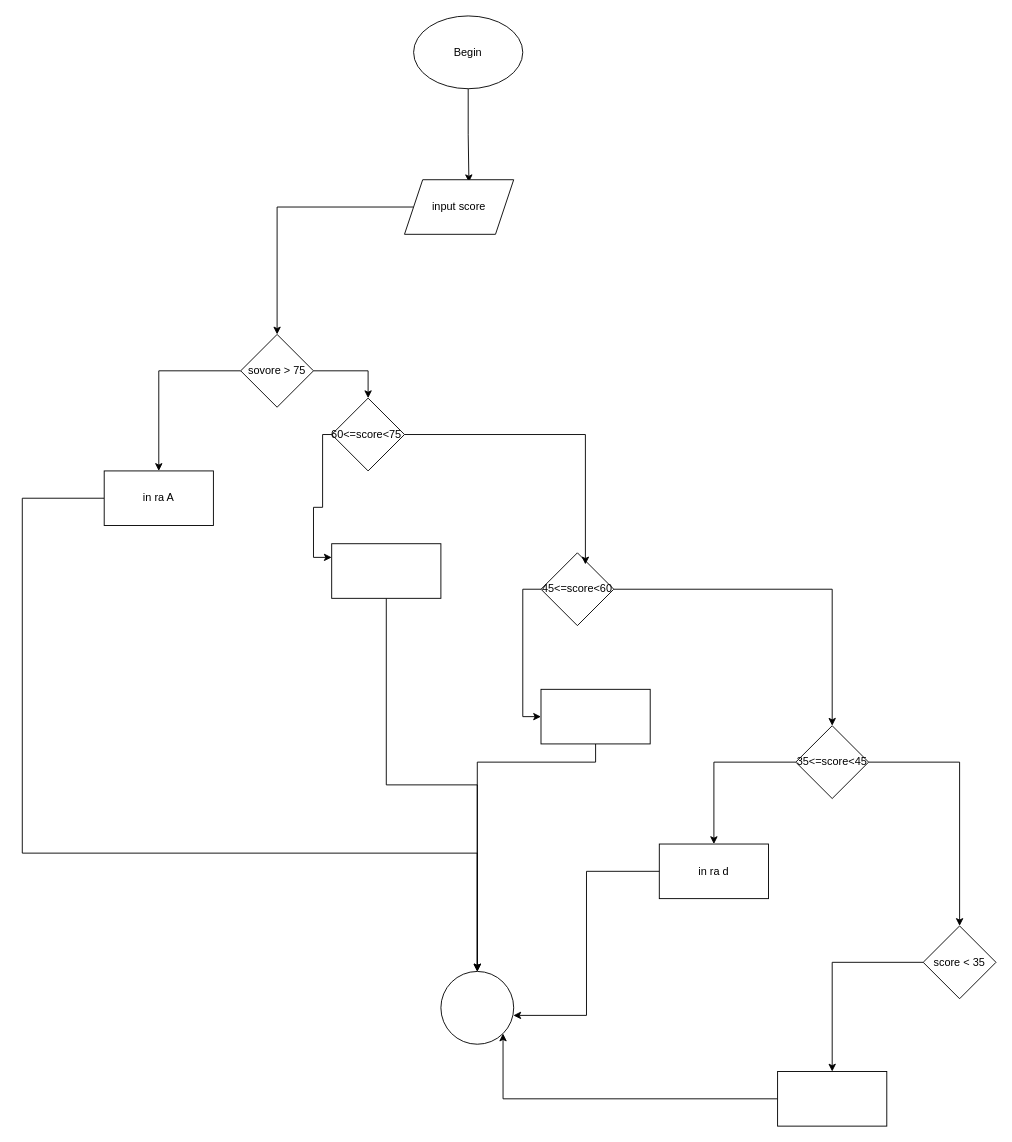
Some shapes in this 1012 by 1142 pixel diagram are drawn without their labels. The centre of each missing label's shape, as x and y in pixels:
"end" goes at pixel 477 1007.
"in ra B" goes at pixel 386 570.
"in ra c" goes at pixel 595 716.
"Loại e" goes at pixel 832 1098.
